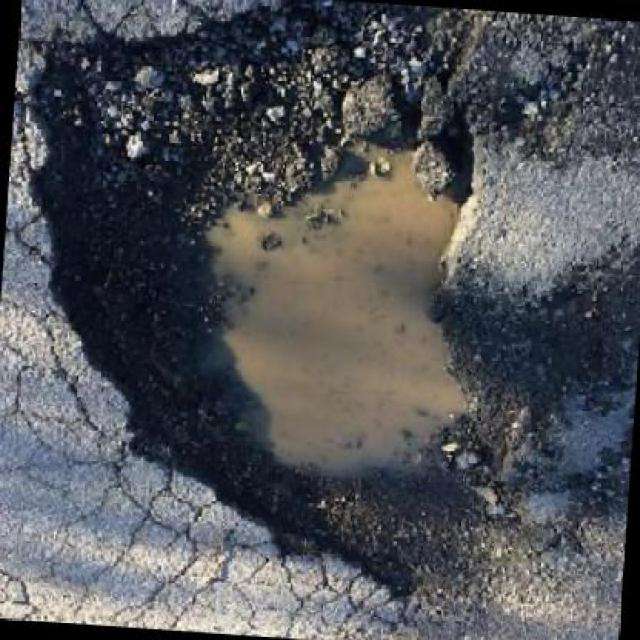pothole1: (0, 0, 549, 612)
